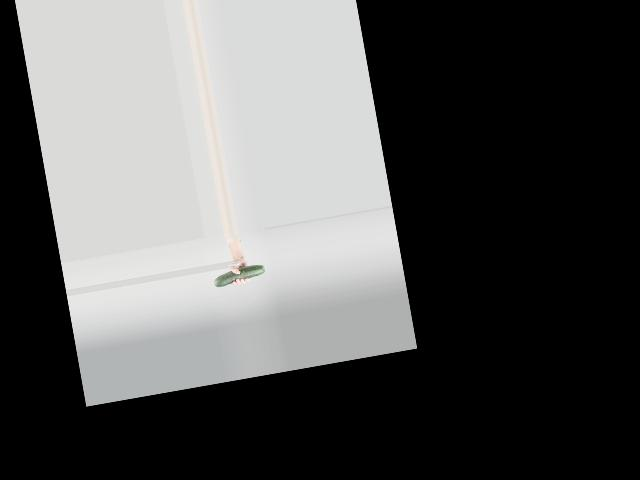cucumber: (212, 263, 265, 288)
